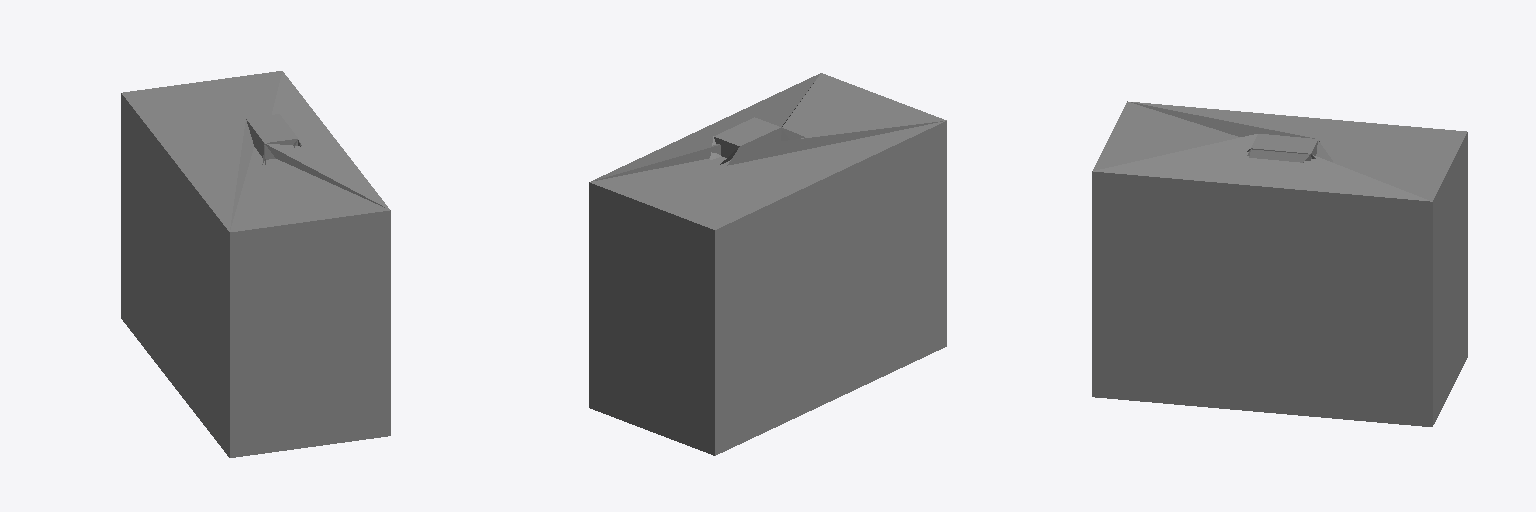
File: House_type-1.obj
3 views of the same model, side by side, from view 1: azimuth 30°, elevation 25°; view 2: azimuth 150°, elevation 25°; view 3: azimuth 270°, elevation 25° (orthographic).
Visible parts, largest first — view 1: floor6, win, balcon; view 2: floor6, win, balcon; view 3: floor6, win, balcon, wall.
Boxes of the visible parts, x1=… form: floor6: x1=121, y1=93, x2=390, y2=457; win: x1=122, y1=71, x2=389, y2=231; balcon: x1=230, y1=71, x2=389, y2=229; floor6: x1=589, y1=117, x2=946, y2=455; win: x1=590, y1=73, x2=946, y2=229; balcon: x1=591, y1=73, x2=942, y2=181; floor6: x1=1092, y1=132, x2=1467, y2=426; win: x1=1093, y1=102, x2=1466, y2=201; balcon: x1=1093, y1=101, x2=1431, y2=201; wall: x1=1140, y1=140, x2=1332, y2=409.
Bounding box in the file's own units: 1163 × 1312 × 1842.